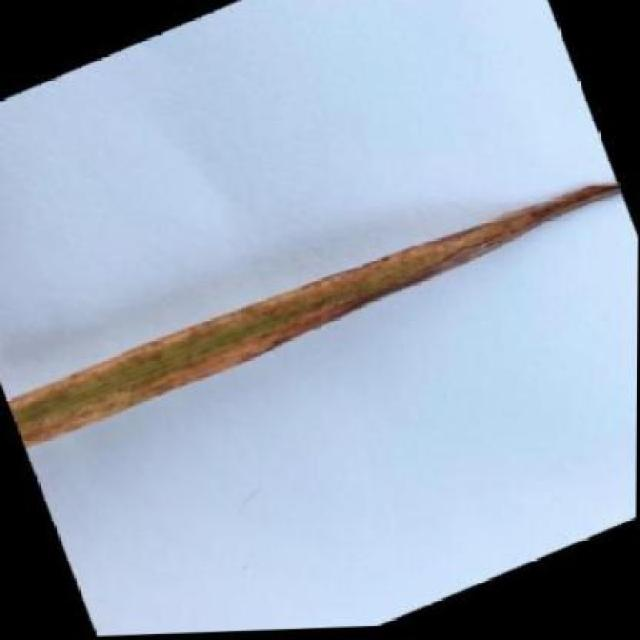Rice False Smut: (6, 153, 625, 452)
